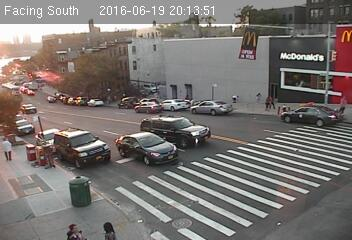neg: (195, 47, 228, 90), (234, 46, 257, 76), (276, 61, 298, 91), (300, 66, 322, 94), (305, 108, 321, 129)
pos: (250, 86, 267, 108), (336, 91, 351, 114), (227, 89, 242, 110)
